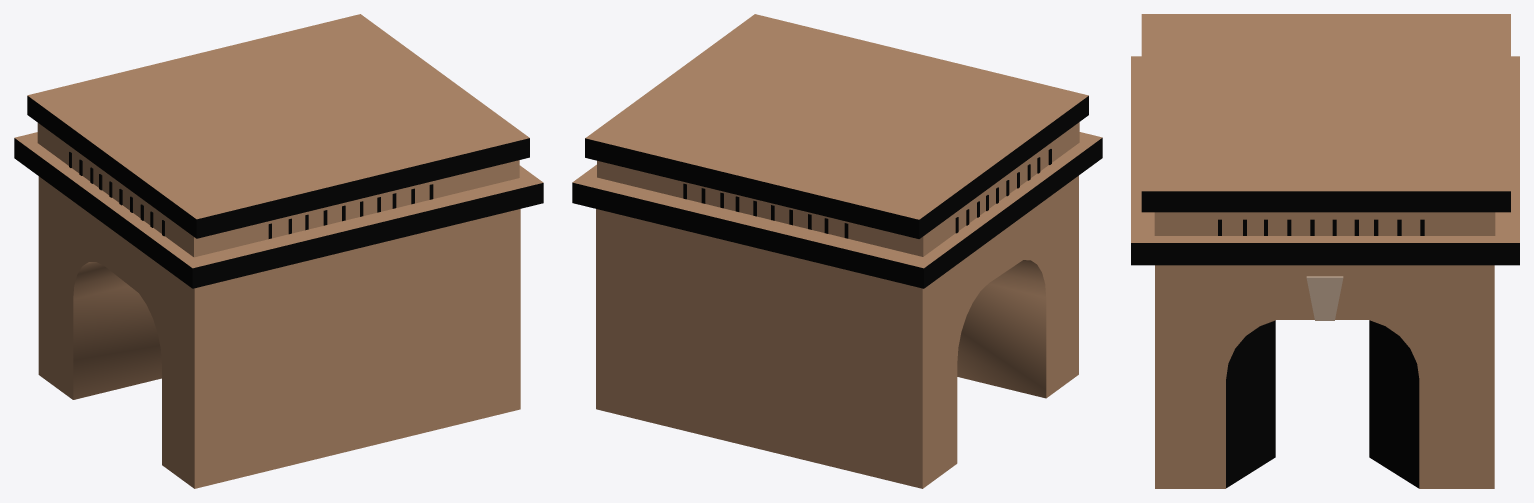
Rendered from fortGate.fbx.
3 renders of one model, left to right at view 1: azimuth 30°, elevation 25°; view 2: azimuth 150°, elevation 25°; view 3: azimuth 270°, elevation 25°, orthographic. The views are drawn at different scales.
Parts seen in each view (by area): view 1: Cube, Cube.006, Cube.004, Cube.005; view 2: Cube, Cube.006, Cube.004, Cube.005; view 3: Cube.006, Cube, Cube.004, Cube.005, Cube.003, Cube.002, Cube.047.
Part boxes in pixels (x1,y1,x2,y2): Cube: [38, 176, 520, 488]; Cube.006: [27, 14, 529, 238]; Cube.004: [14, 132, 543, 288]; Cube.005: [37, 123, 519, 257]; Cube: [596, 175, 1078, 488]; Cube.006: [585, 14, 1088, 238]; Cube.004: [572, 132, 1102, 288]; Cube.005: [597, 122, 1079, 256]; Cube.006: [1141, 14, 1510, 212]; Cube: [1155, 265, 1494, 488]; Cube.004: [1131, 56, 1519, 265]; Cube.005: [1154, 212, 1495, 235]; Cube.003: [1369, 320, 1419, 488]; Cube.002: [1226, 320, 1275, 488]; Cube.047: [1306, 276, 1343, 320].
Bounding box in the file's own units: 322 × 241 × 284.
